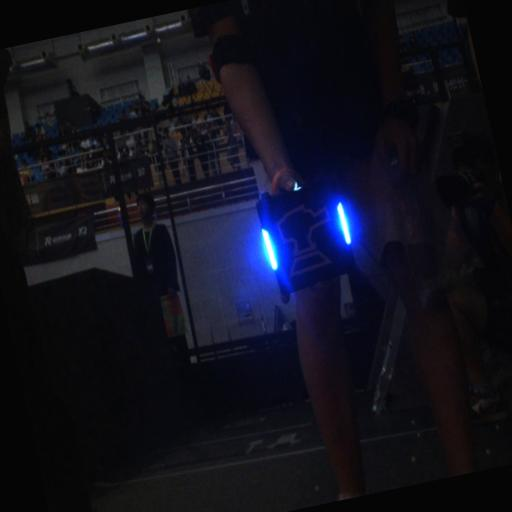target: (252, 179, 368, 294)
